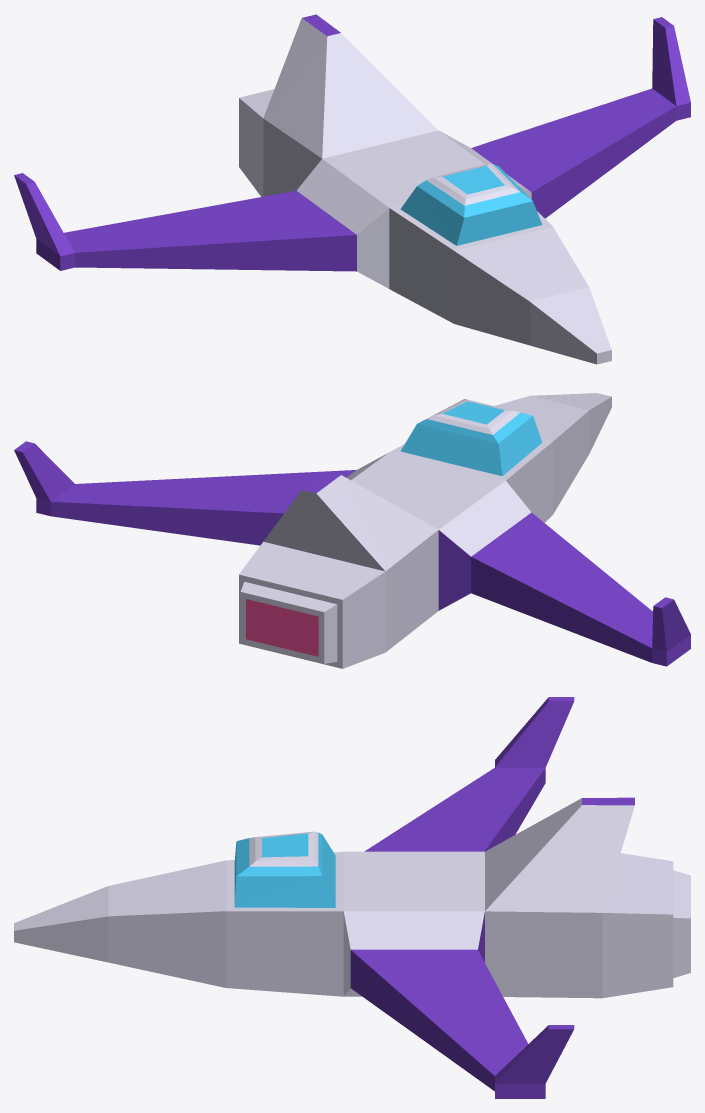
Rendered from nave.obj.
The picture shows the model from 3 angles, top to bottom: view 1: azimuth 30°, elevation 25°; view 2: azimuth 150°, elevation 25°; view 3: azimuth 270°, elevation 25°; orthographic projection. The views are drawn at different scales.
Visible parts, largest first — view 1: nave; view 2: nave; view 3: nave.
Part boxes in pixels (<box>): nave: <box>14,14,690,364</box>; nave: <box>14,393,690,668</box>; nave: <box>14,697,690,1098</box>.
Bounding box in the file's own units: 6.68 × 1.55 × 5.75.
